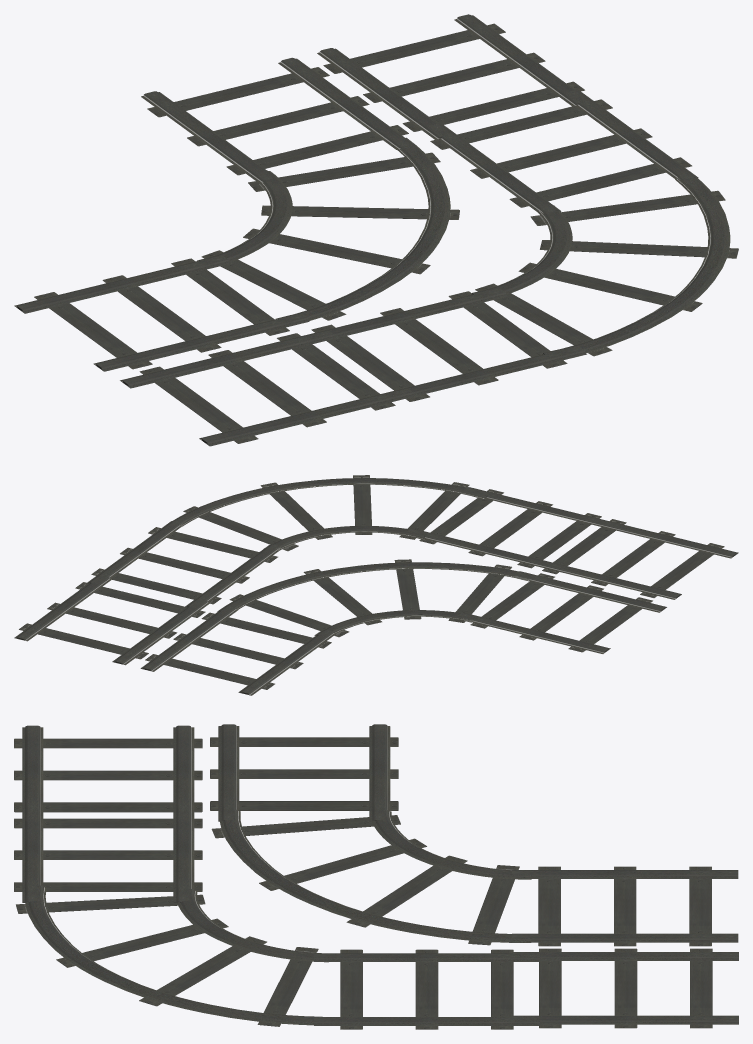
File: Rail2.fbx
The picture shows the model from 3 angles, top to bottom: view 1: azimuth 30°, elevation 25°; view 2: azimuth 150°, elevation 25°; view 3: azimuth 270°, elevation 25°; orthographic projection. The views are drawn at different scales.
Parts seen in each view (by area): view 1: rayC_1, rayC, rayH, rayH_1, rayH_2, rayH_5, rayH_4, rayH_3; view 2: rayC_1, rayC, rayH_2, rayH_5, rayH, rayH_1, rayH_4, rayH_3; view 3: rayC, rayC_1, rayH, rayH_2, rayH_1, rayH_4, rayH_5, rayH_3.
Boxes of the visible parts, <box> form: rayC_1: <box>470,176,738,356</box>; rayC: <box>197,137,459,320</box>; rayH: <box>120,330,414,446</box>; rayH_1: <box>14,256,309,371</box>; rayH_2: <box>141,57,409,183</box>; rayH_5: <box>317,14,585,140</box>; rayH_4: <box>430,90,698,213</box>; rayH_3: <box>292,289,586,404</box>; rayC_1: <box>173,475,487,551</box>; rayC: <box>217,559,530,637</box>; rayH_2: <box>140,606,336,695</box>; rayH_5: <box>14,576,209,665</box>; rayH: <box>528,517,738,599</box>; rayH_1: <box>458,571,666,653</box>; rayH_4: <box>87,520,279,607</box>; rayH_3: <box>407,487,615,569</box>; rayC: <box>211,809,531,945</box>; rayC_1: <box>16,885,329,1026</box>; rayH: <box>14,725,202,822</box>; rayH_2: <box>512,866,738,946</box>; rayH_1: <box>210,724,398,821</box>; rayH_4: <box>314,949,539,1029</box>; rayH_5: <box>512,948,738,1028</box>; rayH_3: <box>14,805,202,902</box>.
Bounding box in the file's own units: 10464 × 35.02 × 10573.
Materials: 1 (1 with a texture image).
